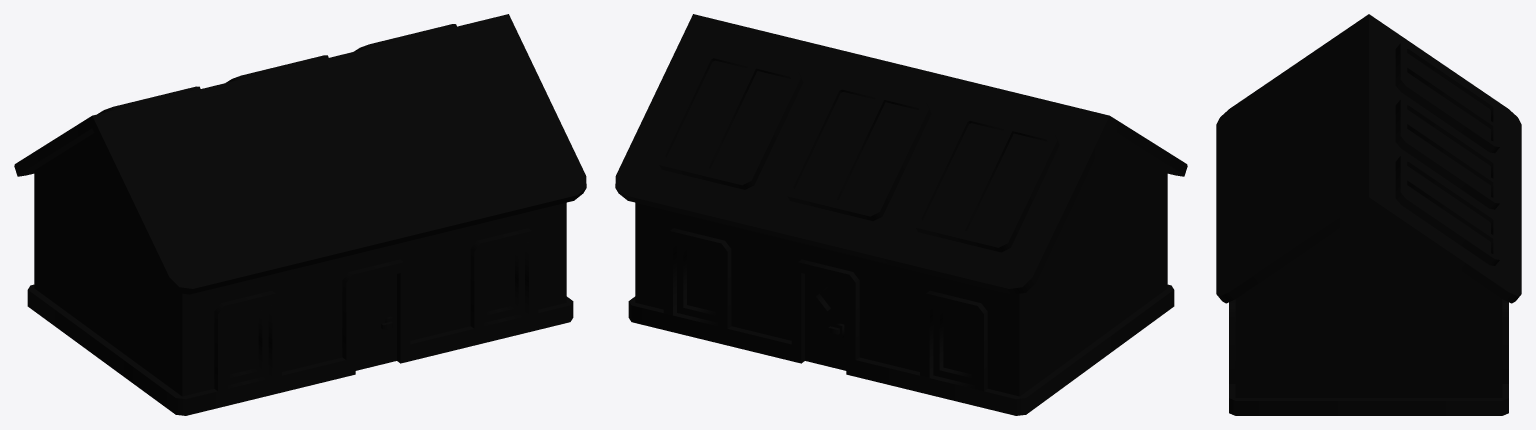
Rendered from building-type-h.glb.
3 renders of one model, left to right at view 1: azimuth 30°, elevation 25°; view 2: azimuth 150°, elevation 25°; view 3: azimuth 270°, elevation 25°, orthographic. The views are drawn at different scales.
Visible parts, largest first — view 1: building-type-h; view 2: building-type-h; view 3: building-type-h.
Part boxes in pixels (bbox=[...]): building-type-h: bbox=[14, 14, 586, 415]; building-type-h: bbox=[615, 14, 1187, 415]; building-type-h: bbox=[1216, 14, 1521, 415].
Bounding box in the file's own units: 1.3 × 0.7375 × 0.9161.
Materials: 1 (1 with a texture image).
